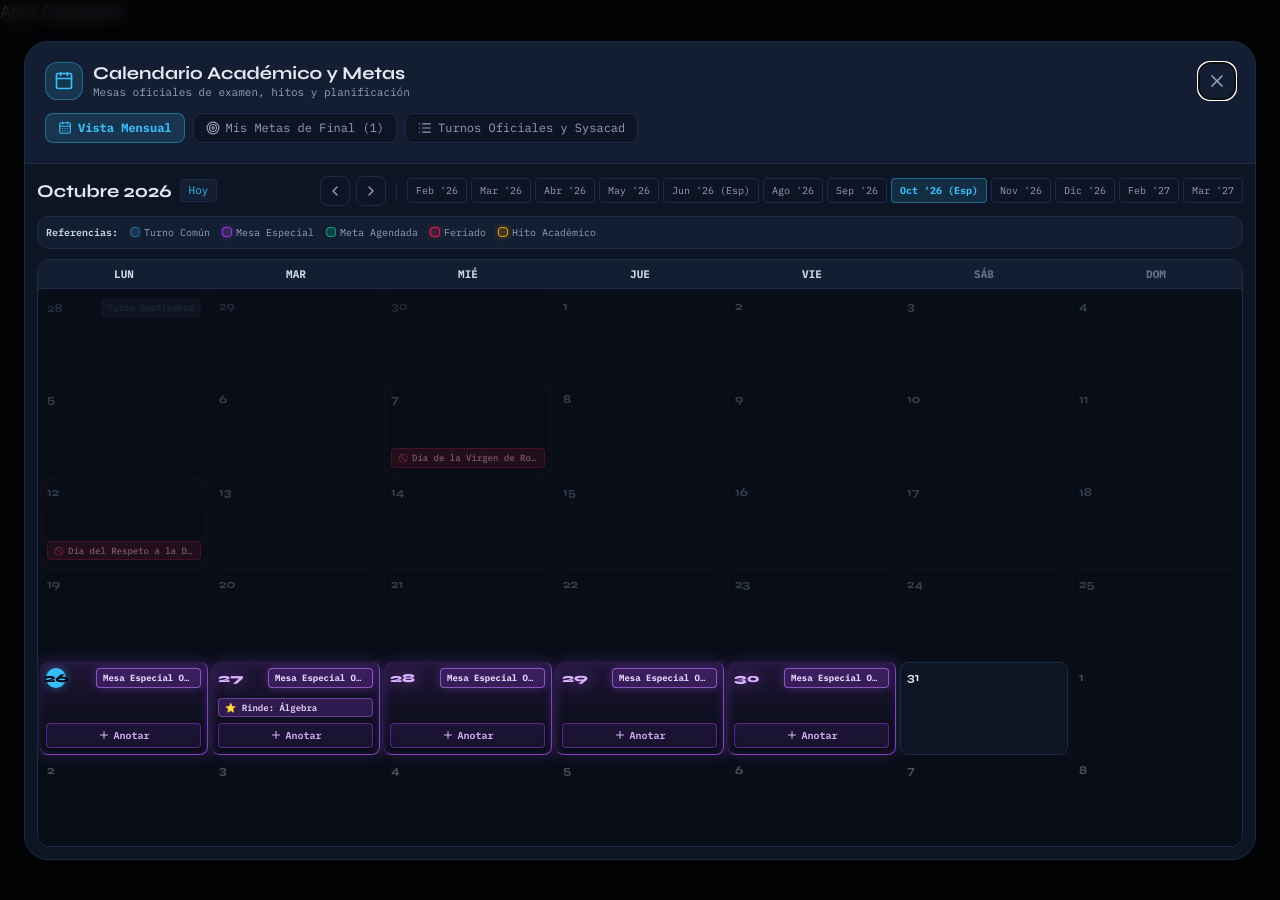
Test: CalendarModal - Componente de Calendario Académico › debe mostrar las metas programadas en la pestaña Metas y permitir gestionarlas y exportar .ics
Note: Ir a pestaña Metas
Click the button "Mis Metas de Final (1)". click: (295, 128)
box: [193,112,397,142]
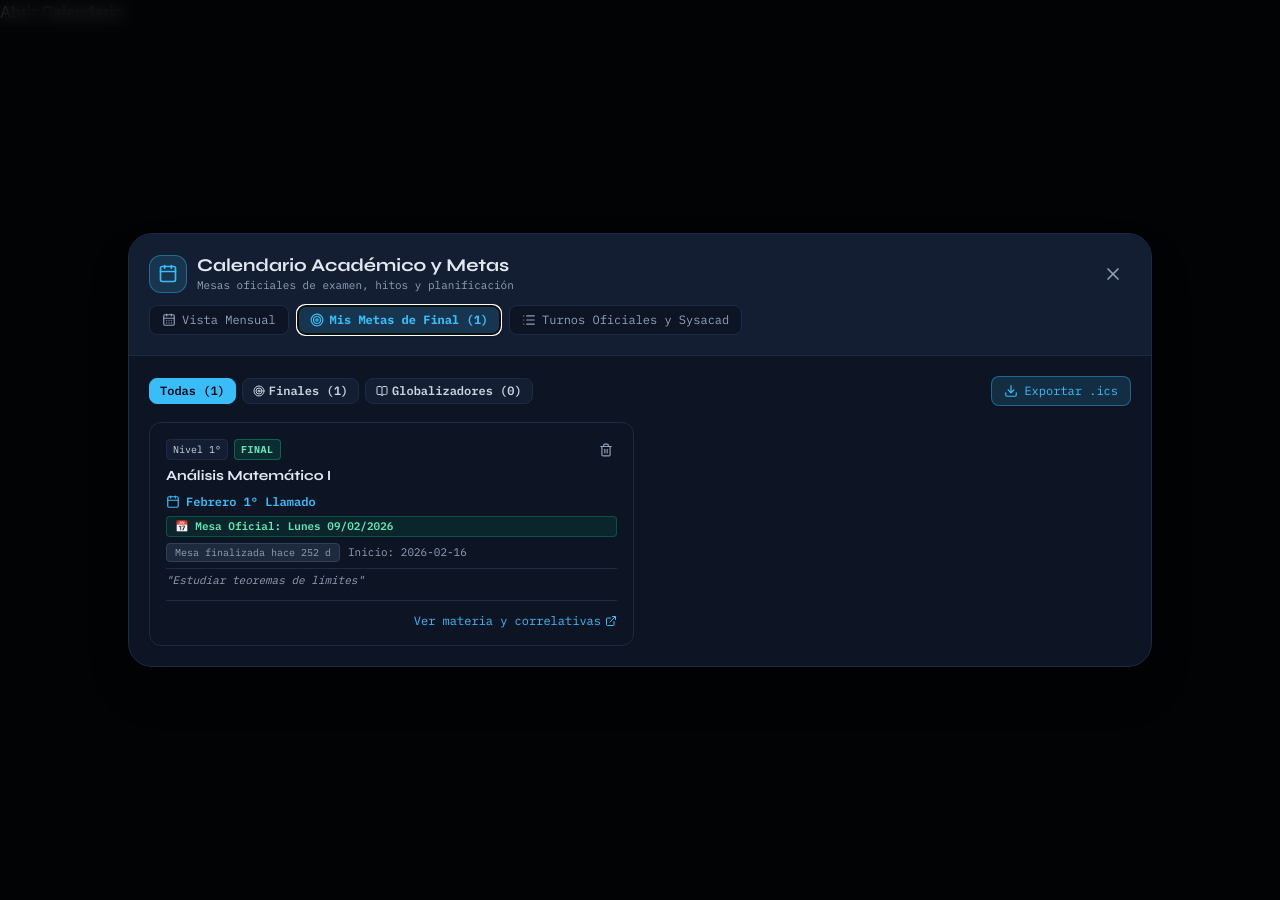
Expected: the heading "Análisis Matemático I" is shown, [166,466,331,486]
Expected: the text "\"Estudiar teoremas de límites\"" is shown, [166,568,617,588]
Expected: the button "Exportar .ics" is shown
Click the button "Exportar .ics". click: (1061, 391)
box: [991,376,1131,406]
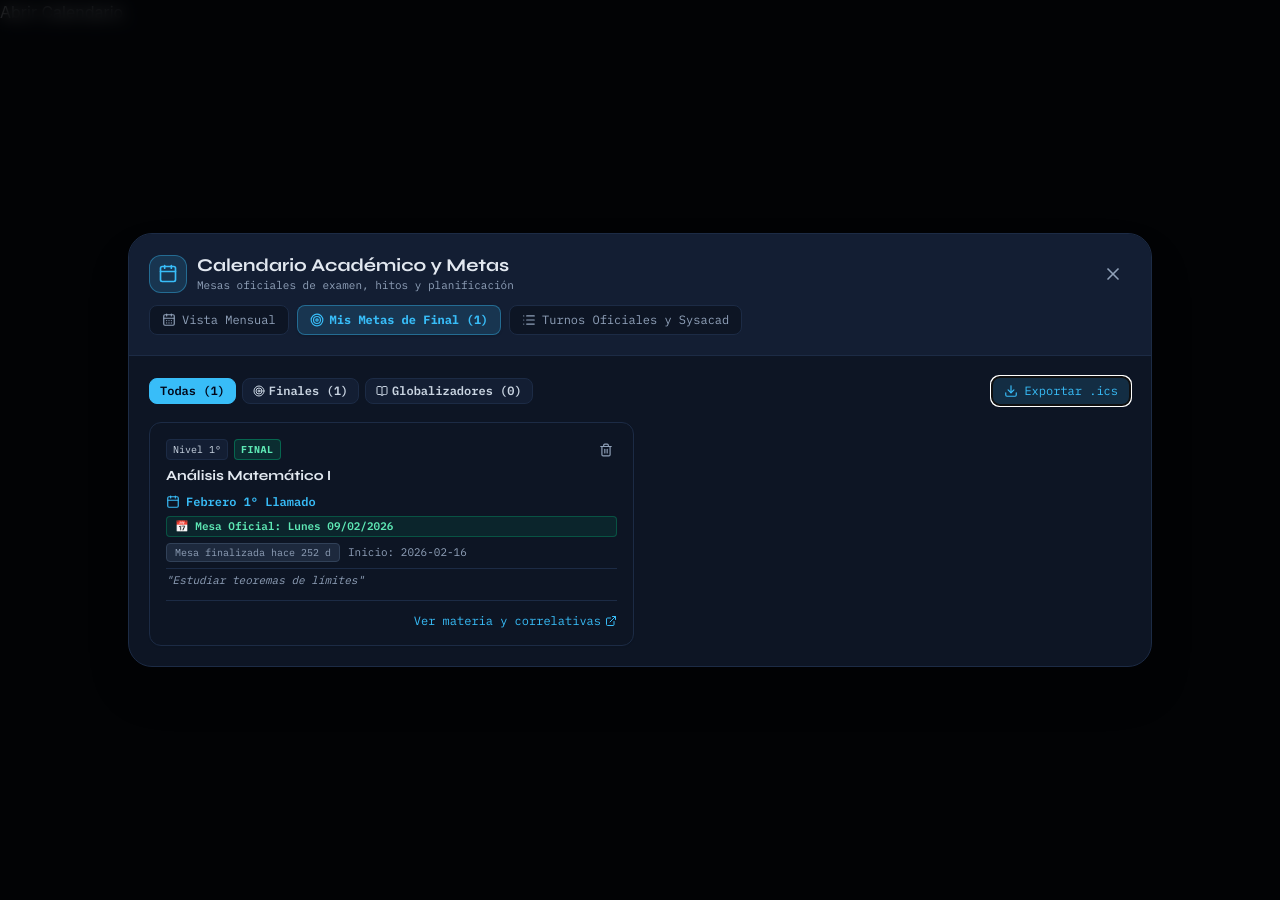
Expected: the button "Ver materia y correlativas" is shown, [414,613,617,629]
Note: Quitar la meta
Click the button titled "Quitar meta". click: (606, 450)
box: [595,439,617,461]
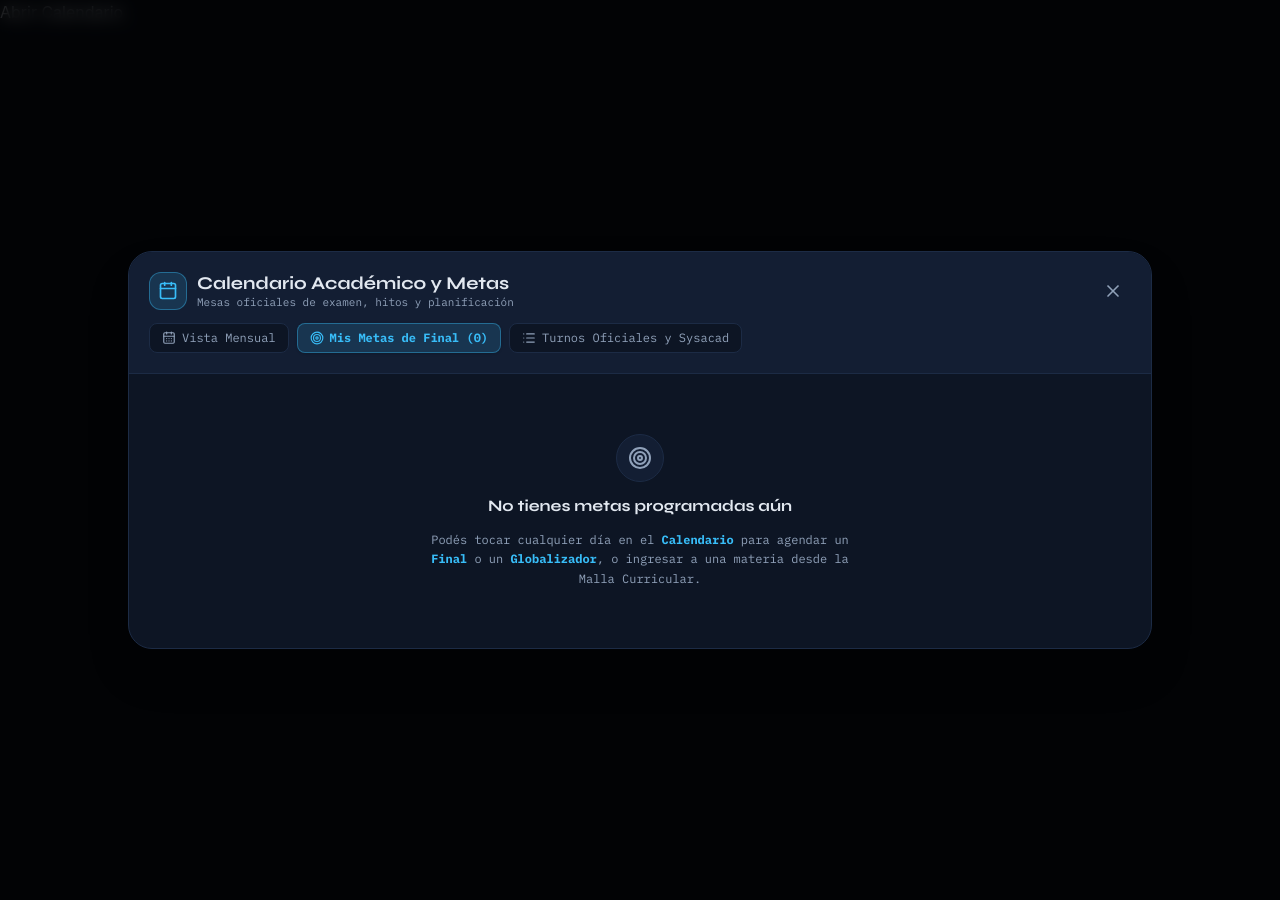
Expected: the text "\"Estudiar teoremas de límites\"" is gone
